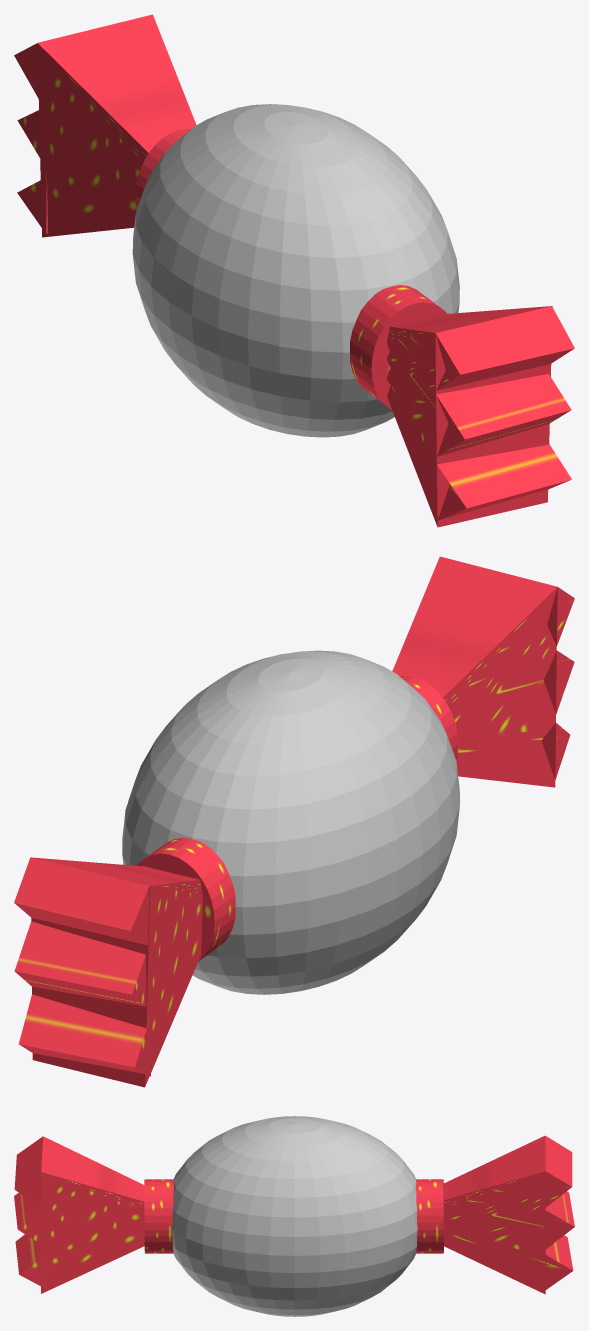
The model's file is candy.fbx.
3 views of the same model, one above another, from view 1: azimuth 30°, elevation 25°; view 2: azimuth 150°, elevation 25°; view 3: azimuth 270°, elevation 25° (orthographic). The views are drawn at different scales.
Visible parts, largest first — view 1: Esfera, Plano.002, Cilindro; view 2: Esfera, Plano.002, Cilindro; view 3: Esfera, Plano.002, Cilindro.
Boxes of the visible parts, bbox=[...] form: Esfera: bbox=[132, 104, 459, 437]; Plano.002: bbox=[14, 14, 574, 527]; Cilindro: bbox=[135, 129, 446, 409]; Esfera: bbox=[122, 650, 459, 994]; Plano.002: bbox=[14, 556, 574, 1087]; Cilindro: bbox=[136, 675, 458, 961]; Esfera: bbox=[172, 1116, 417, 1316]; Plano.002: bbox=[14, 1135, 574, 1294]; Cilindro: bbox=[144, 1179, 443, 1253].
Bounding box in the file's own units: 165 × 180 × 496.
